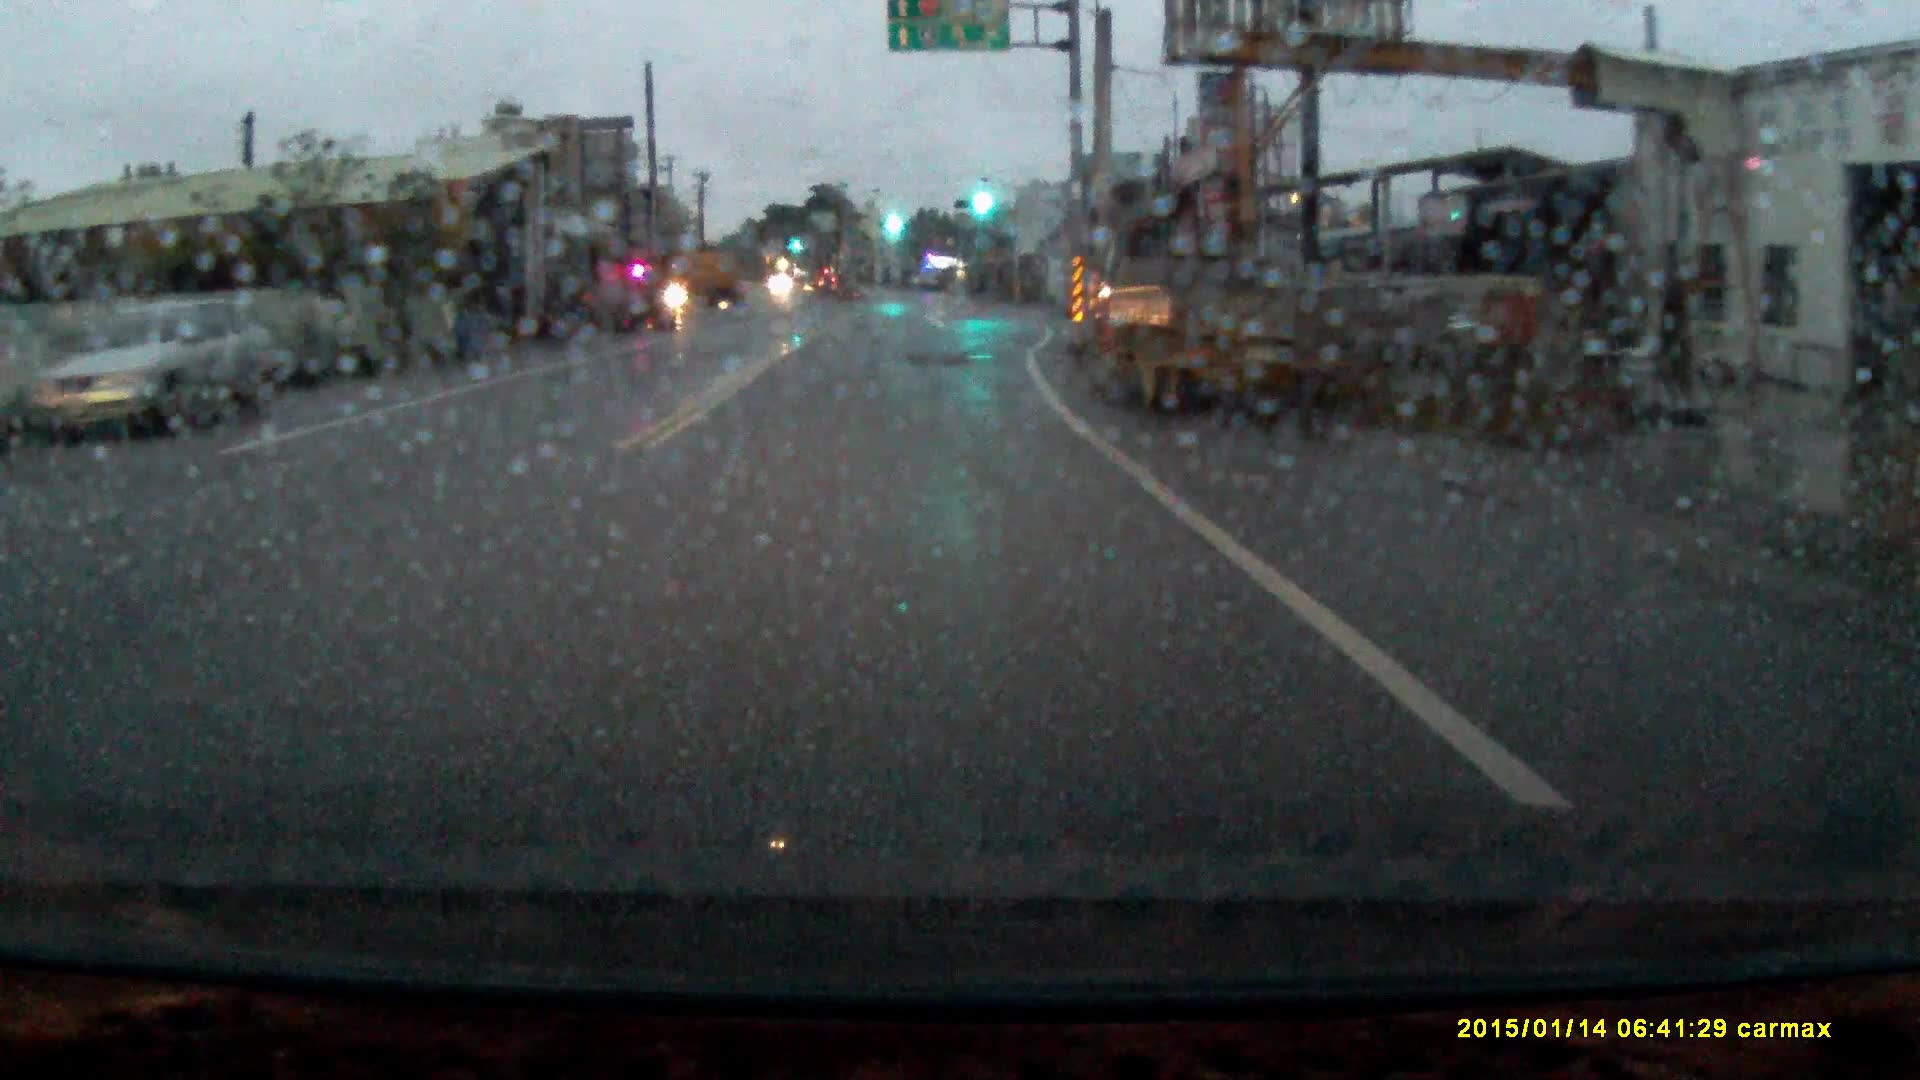vehicle: (1087, 225, 1370, 438), (59, 306, 269, 448), (659, 257, 750, 318)
